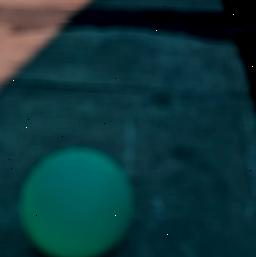algae: (20, 145, 134, 257)
